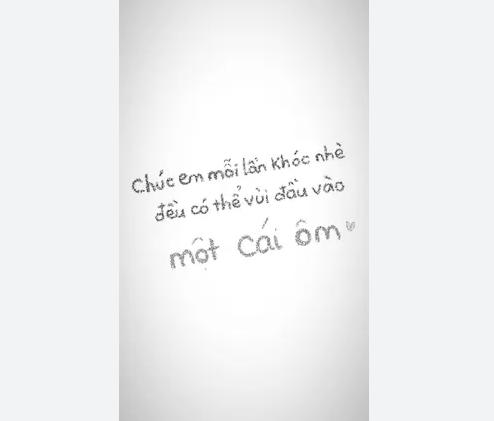text: (130, 140, 347, 196), (166, 215, 359, 275), (153, 173, 346, 224)
